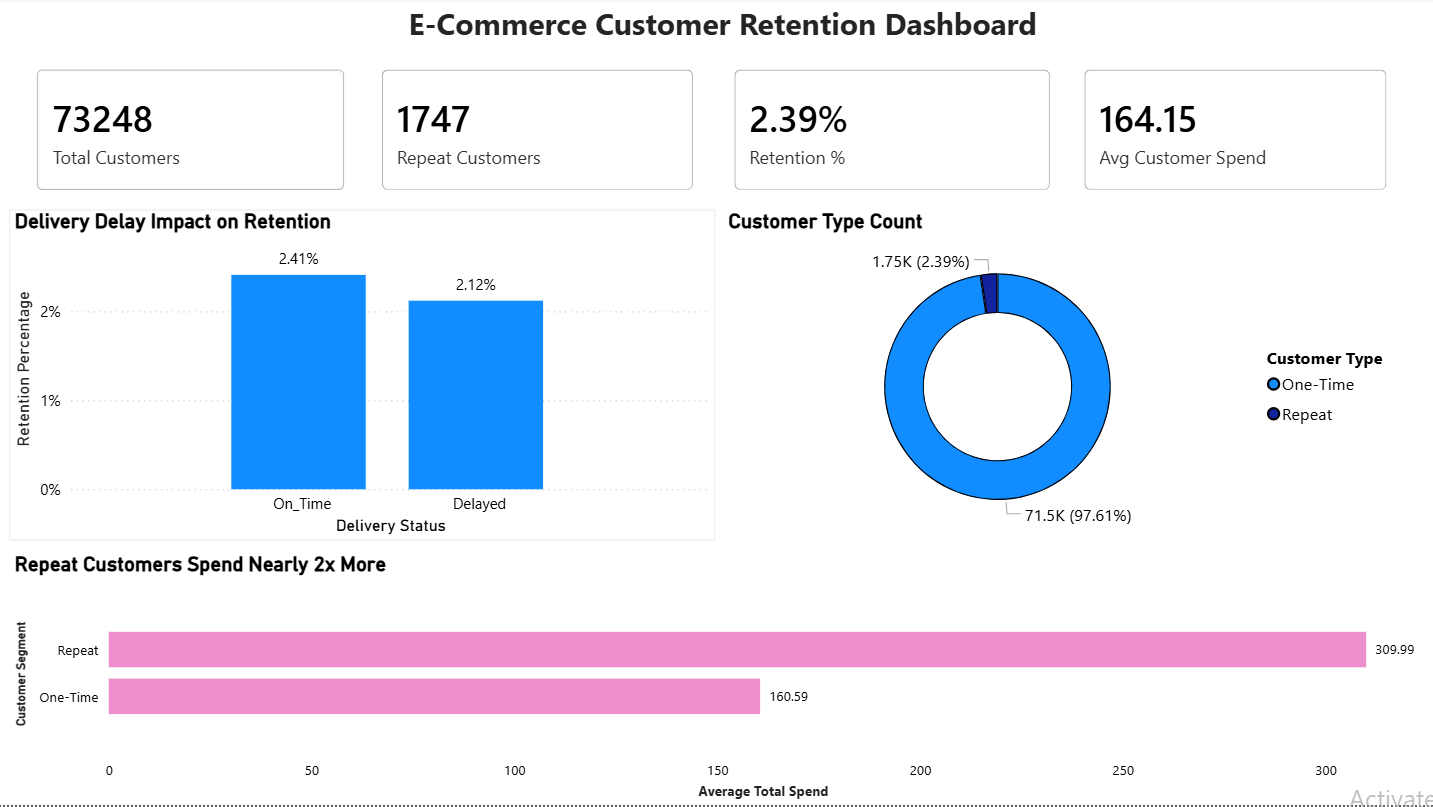

Layout of this report page (visuals, bound fields, positions):
{"tool":"powerbi","page":{"name":"Page 1","canvas":[1280,720],"ordinal":0},"visuals":[{"type":"textbox","box":[9.6,0,1270.7,56.3],"z":0},{"type":"cardVisual","fields":{"Data":["CountNonNull(Customer Level.customer_unique_id)"]},"box":[17.7,47.9,307.8,141.3],"z":1000},{"type":"cardVisual","fields":{"Data":["Sum(Customer Level.is_repeat_customer)"]},"box":[325.4,47.9,311.6,141.3],"z":2000},{"type":"cardVisual","fields":{"Data":["Category Retention.Retention %"]},"box":[639.5,47.9,315.3,141.3],"z":3000},{"type":"cardVisual","fields":{"Data":["Category Retention.Avg Spend"]},"box":[951,47.9,304,141.3],"z":4000},{"type":"clusteredColumnChart","title":"Delivery Delay Impact on Retention","fields":{"Category":["Delay Simple.delivery_status"],"Y":["Sum(Delay Simple.retention_pct)"]},"box":[10.1,189.2,629.4,295.2],"z":5000},{"type":"donutChart","title":"Customer Type Count","fields":{"Y":["CountNonNull(Customer Level.customer_unique_id)"],"Category":["Customer Level.Customer Type"]},"box":[645.8,189.2,609.2,295.2],"z":6000},{"type":"barChart","title":"Repeat Customers Spend Nearly 2x More","fields":{"Category":["Repeat Value.Customer Segment"],"Y":["Avg(Repeat Value.avg_total_spend)"]},"box":[10.1,494.4,1270.2,225.8],"z":7000}]}

Visuals, with their boxes on the page's 1280x720 design canvas (x1, y1, x2, y2). These are canvas units, not pixel positions in the 1433x807 screenshot, which may show the page scaled, cropped or inside an application window:
textbox: rect(10, 0, 1280, 56)
cardVisual - CountNonNull(Customer Level.customer_unique_id): rect(18, 48, 326, 189)
cardVisual - Sum(Customer Level.is_repeat_customer): rect(325, 48, 637, 189)
cardVisual - Category Retention.Retention %: rect(640, 48, 955, 189)
cardVisual - Category Retention.Avg Spend: rect(951, 48, 1255, 189)
"Delivery Delay Impact on Retention" clusteredColumnChart: rect(10, 189, 640, 484)
"Customer Type Count" donutChart: rect(646, 189, 1255, 484)
"Repeat Customers Spend Nearly 2x More" barChart: rect(10, 494, 1280, 720)
